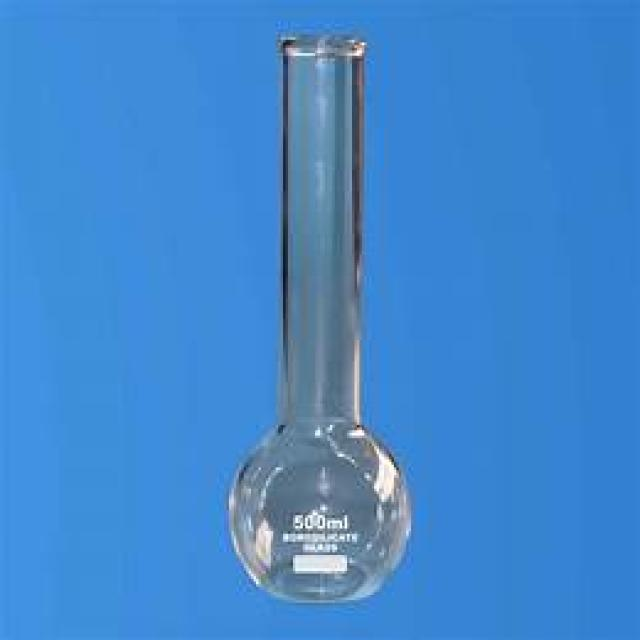Volumetric flask: (233, 25, 416, 600)
